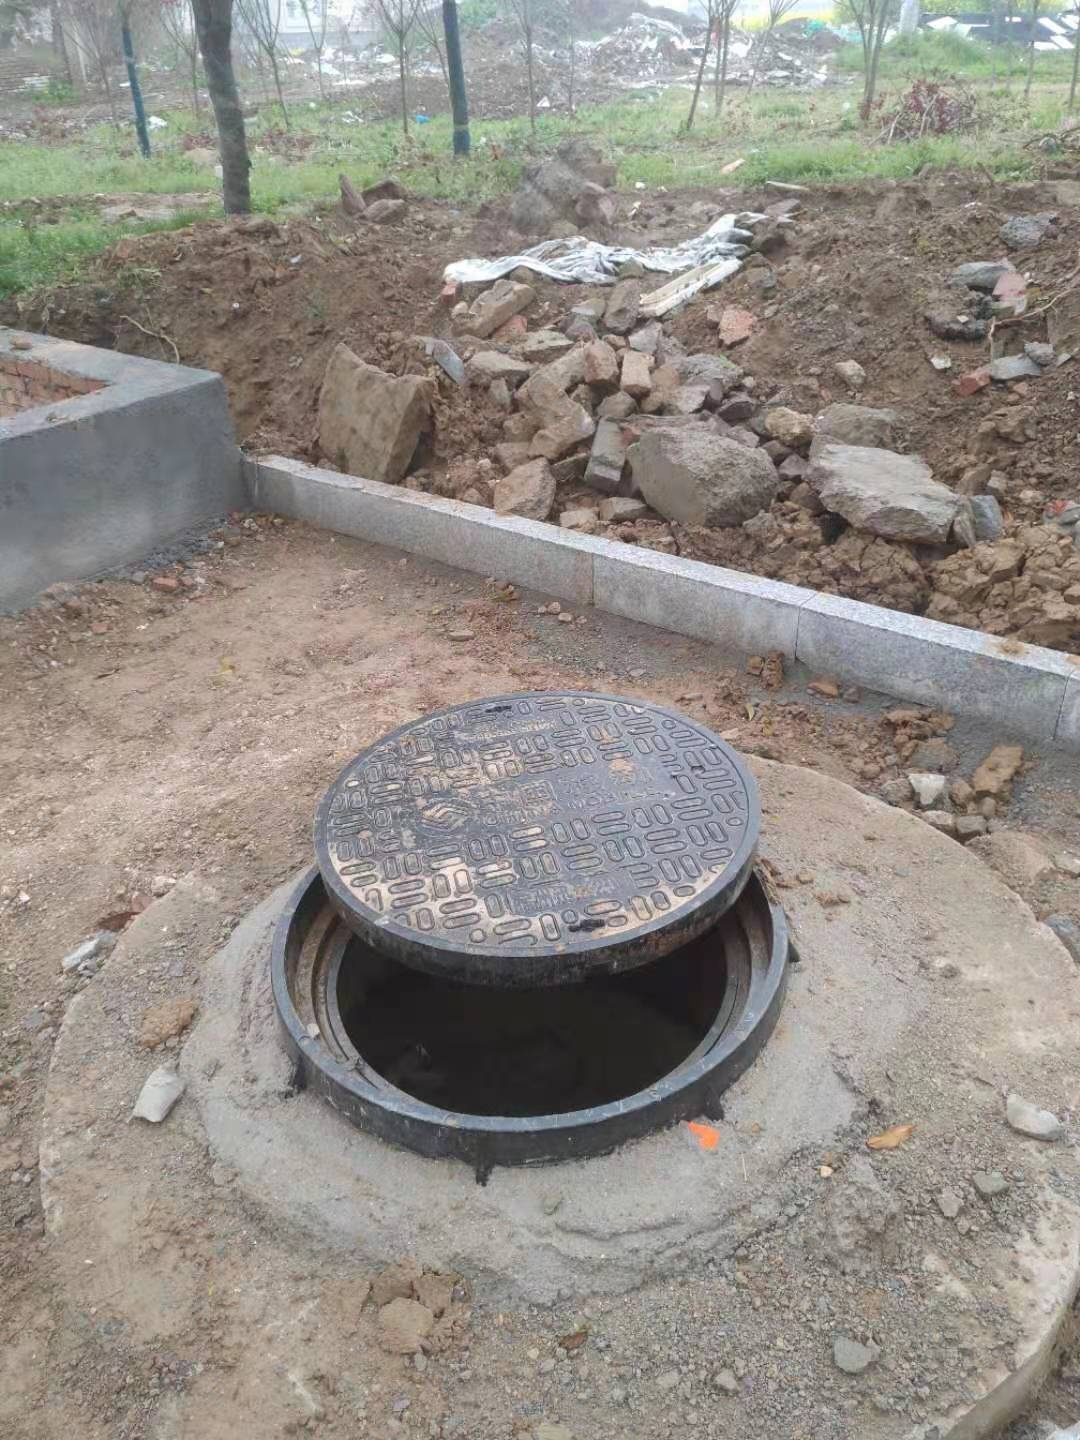uncovered: (270, 691, 792, 1161)
